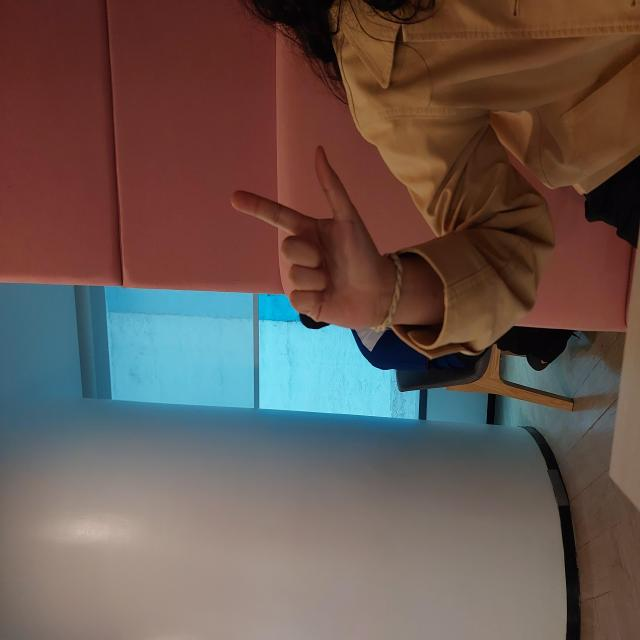L: (308, 225, 502, 396)
